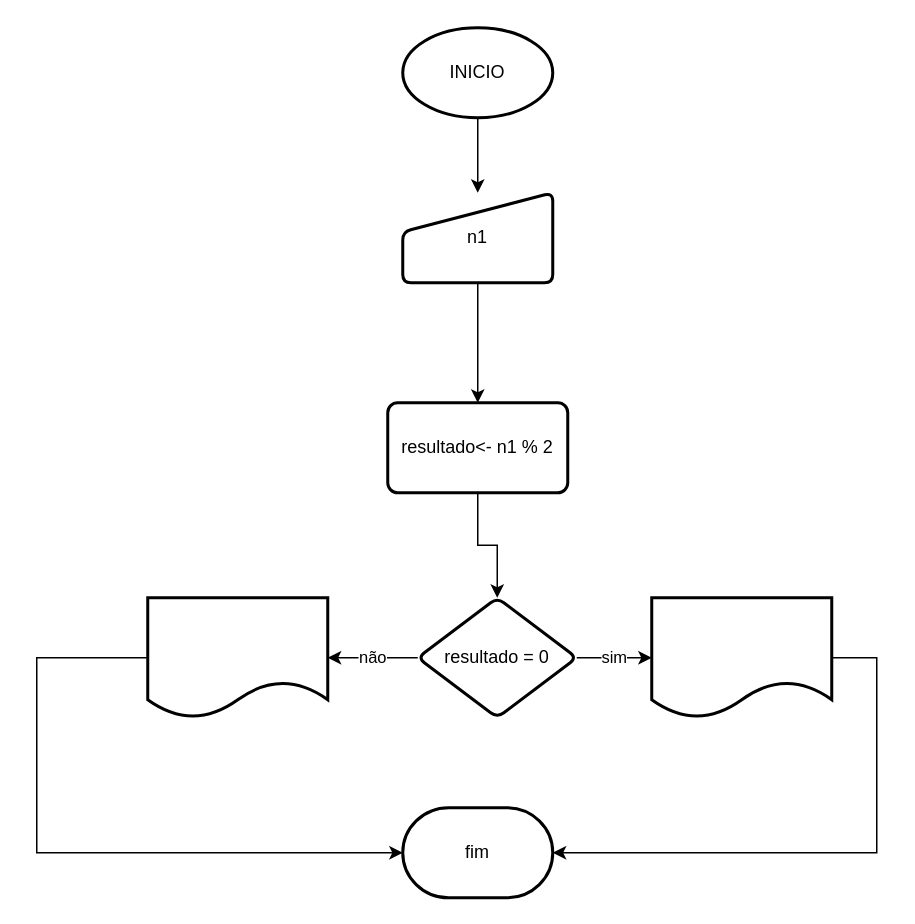
Image size: 915x924. Some labels were removed from this diagram. The shapes that lost their labels are listed below. From the top down, each one's box as (x1, y1, x2, y2) in pixels, then its label:
(146, 596, 328, 718): se o resto der 1 ele é impar
(650, 596, 832, 718): se o resto for 0 ele é par
